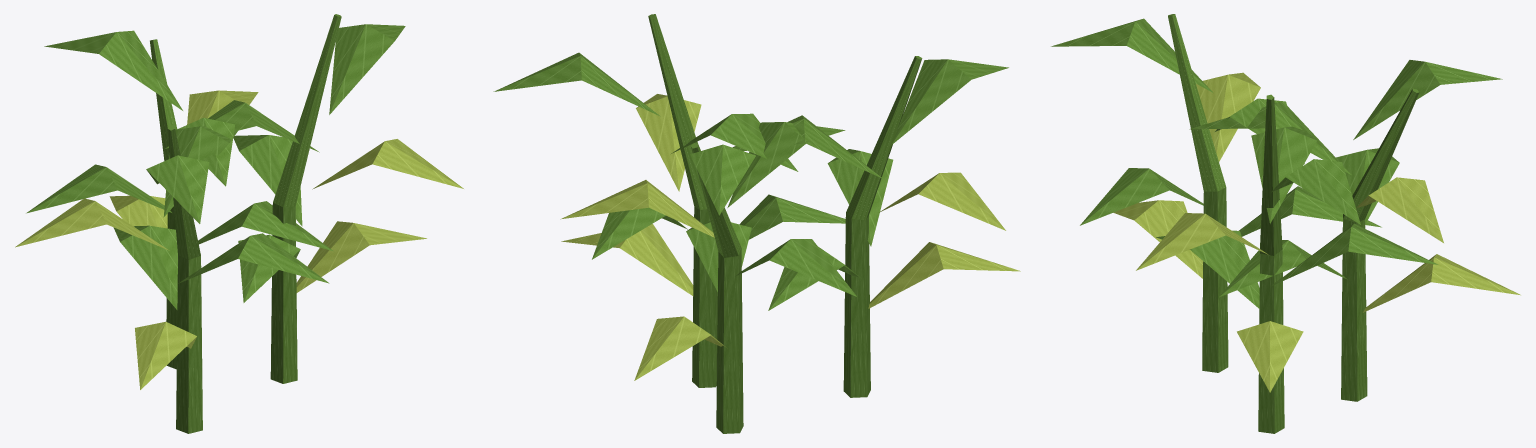
File: crop-tomato-young.glb
The picture shows the model from 3 angles, left to right: view 1: azimuth 30°, elevation 25°; view 2: azimuth 150°, elevation 25°; view 3: azimuth 270°, elevation 25°; orthographic projection. The views are drawn at different scales.
Parts seen in each view (by area): view 1: crop-tomato-young; view 2: crop-tomato-young; view 3: crop-tomato-young.
Part boxes in pixels (<box>): crop-tomato-young: <box>15,14,463,433</box>; crop-tomato-young: <box>493,14,1020,433</box>; crop-tomato-young: <box>1051,14,1520,433</box>.
Bounding box in the file's own units: 0.5108 × 0.3812 × 0.4544.
1 material, 1 textured.
